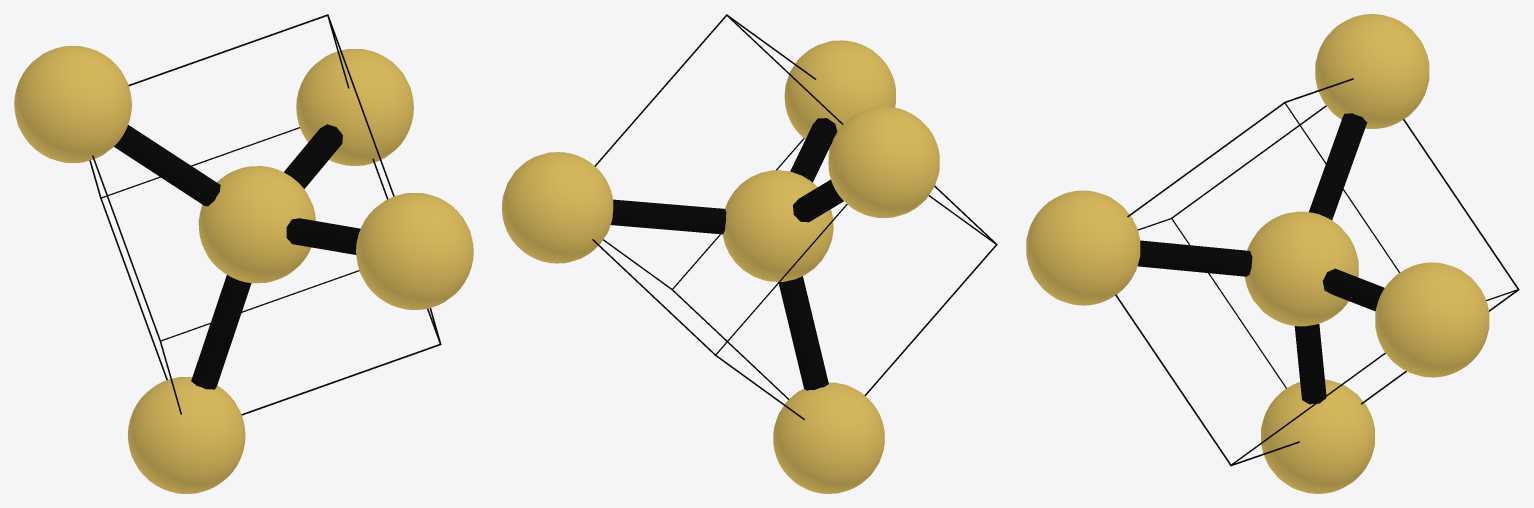
The model's file is diamant.glb.
The picture shows the model from 3 angles, left to right: view 1: azimuth 30°, elevation 25°; view 2: azimuth 150°, elevation 25°; view 3: azimuth 270°, elevation 25°; orthographic projection. The views are drawn at different scales.
Visible parts, largest first — view 1: Sphere.020, Sphere.022, Sphere.021, Sphere.006, Sphere.023, Cube.004, BezierCurve.010, BezierCurve.009, BezierCurve.011, BezierCurve.008; view 2: Sphere.022, Sphere.023, Sphere.021, Sphere.006, Sphere.020, Cube.004, BezierCurve.008, BezierCurve.009, BezierCurve.011, BezierCurve.010; view 3: Sphere.023, Sphere.020, Sphere.022, Sphere.021, Sphere.006, Cube.004, BezierCurve.011, BezierCurve.010, BezierCurve.009, BezierCurve.008.
Boxes of the visible parts, x1,y1,x2,y2 form: Sphere.020: (356,193,473,309); Sphere.022: (14,46,131,162); Sphere.021: (127,377,245,493); Sphere.006: (198,166,315,283); Sphere.023: (296,49,413,165); Cube.004: (89,14,441,415); BezierCurve.010: (114,125,220,206); BezierCurve.009: (191,275,251,389); BezierCurve.011: (286,218,360,254); BezierCurve.008: (284,124,342,188); Sphere.022: (828,106,939,217); Sphere.023: (502,152,613,263); Sphere.021: (773,382,884,493); Sphere.006: (722,170,833,281); Sphere.020: (784,40,895,150); Cube.004: (592,14,997,420); BezierCurve.008: (610,199,726,234); BezierCurve.009: (779,276,828,390); BezierCurve.011: (790,118,837,182); BezierCurve.010: (793,179,843,222); Sphere.023: (1375,262,1489,377); Sphere.020: (1026,190,1140,305); Sphere.022: (1315,14,1429,128); Sphere.021: (1261,379,1374,493); Sphere.006: (1244,211,1358,326); Cube.004: (1115,78,1519,466); BezierCurve.011: (1138,240,1252,276); BezierCurve.010: (1309,113,1367,220); BezierCurve.009: (1294,324,1326,404); BezierCurve.008: (1322,268,1384,311).
Bounding box in the file's own units: 3.43 × 3.61 × 3.62.
